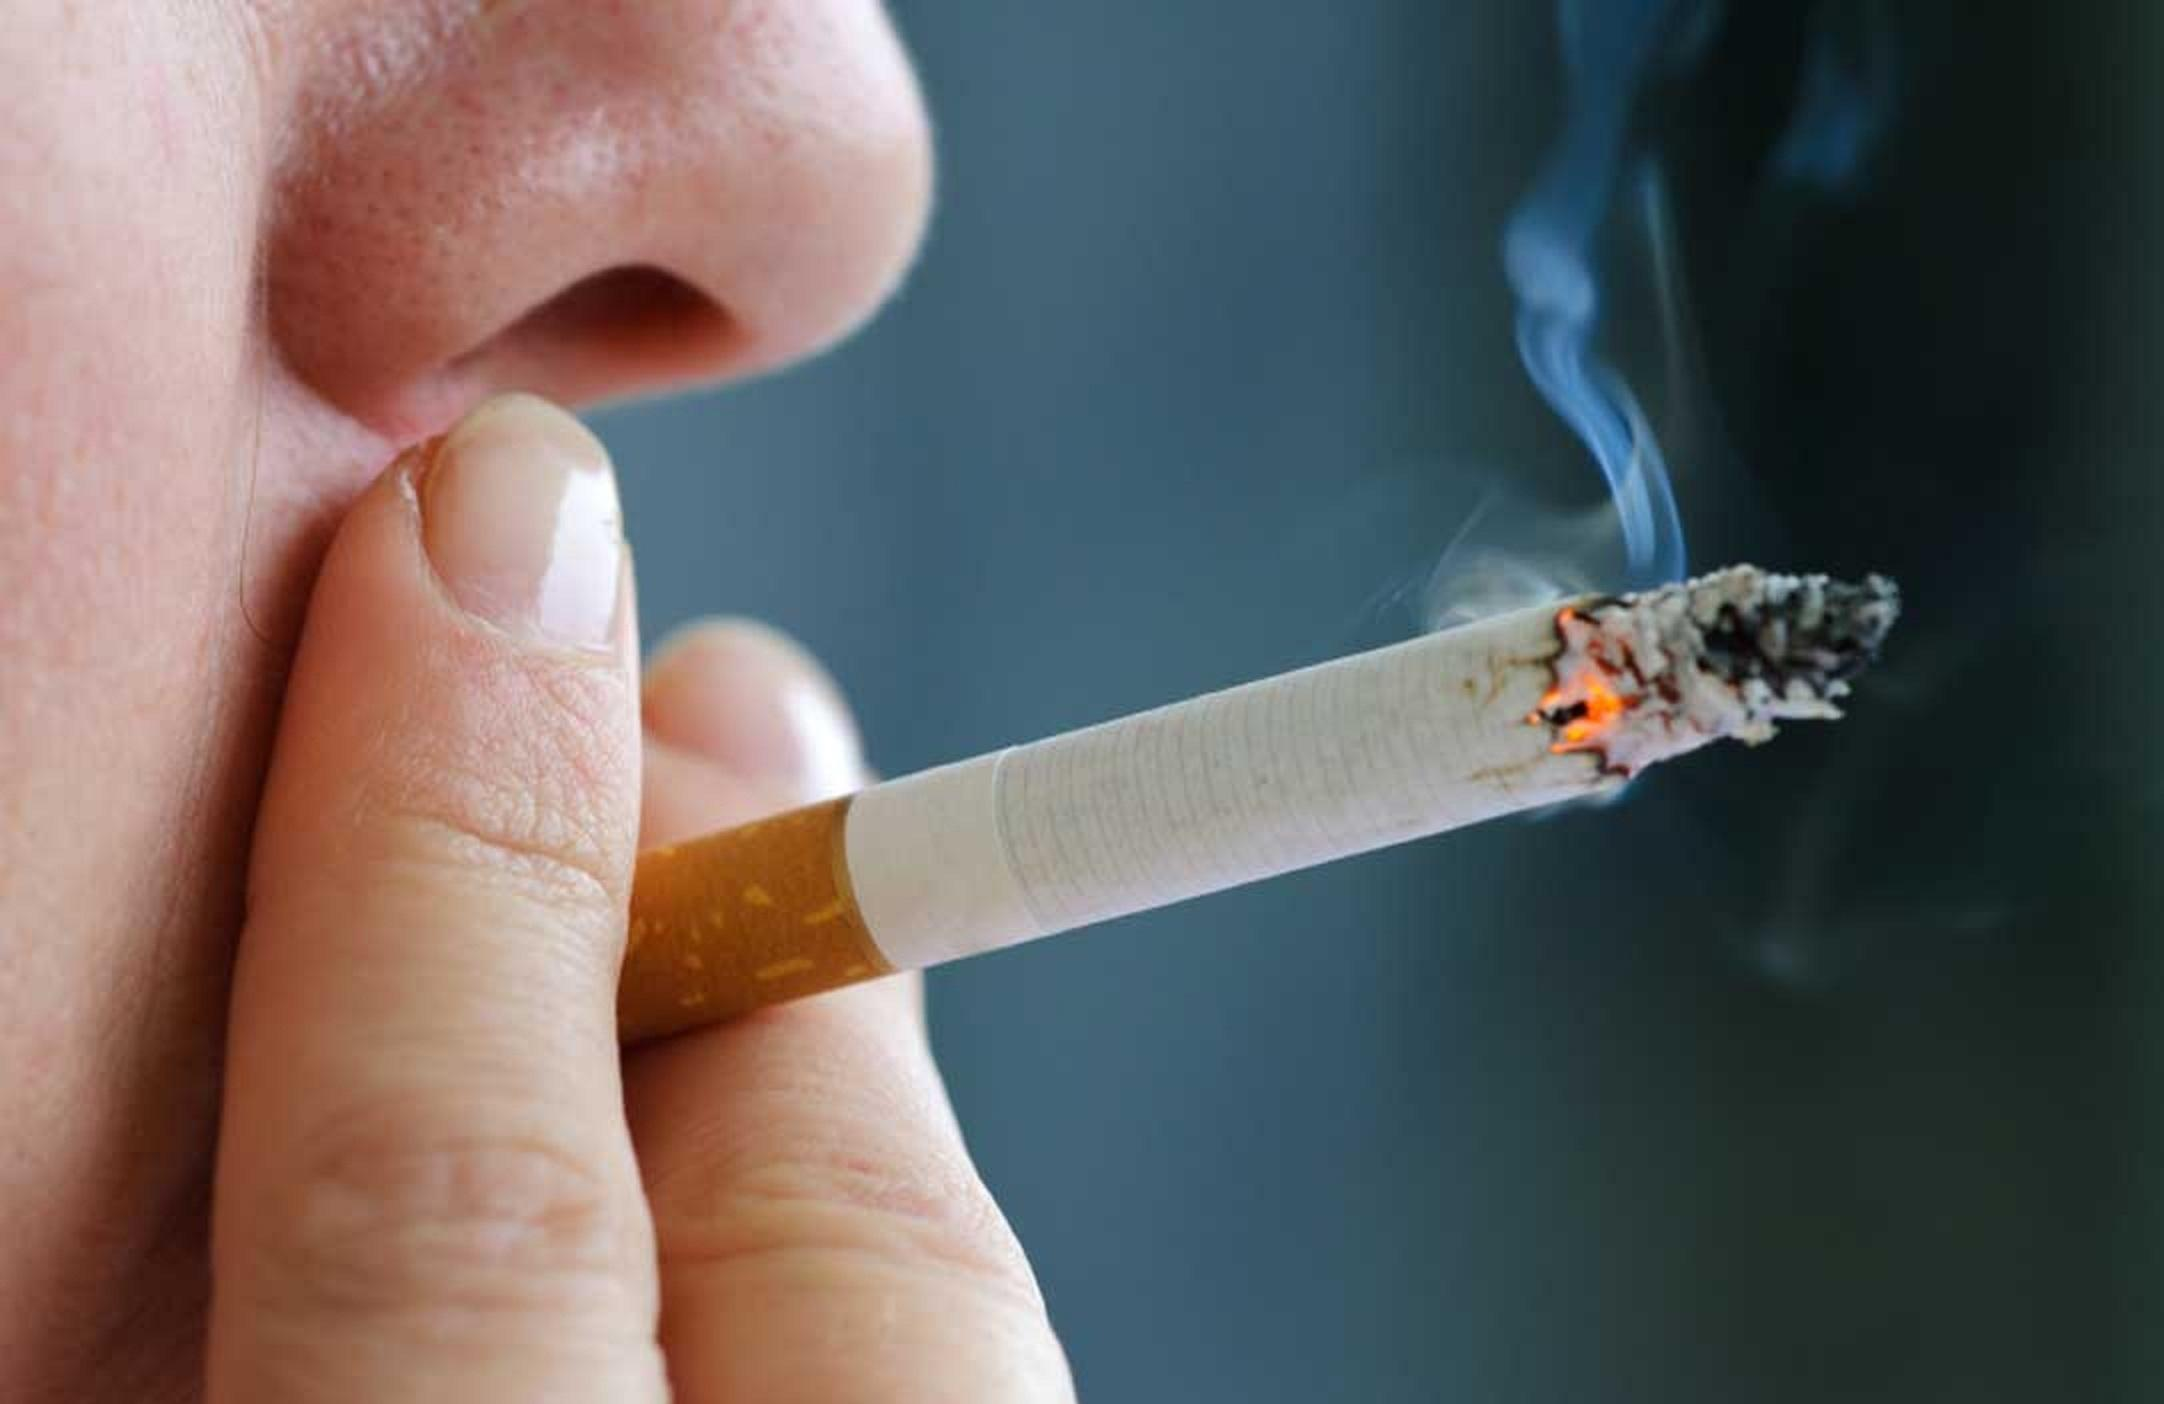cigarette: (617, 571, 1897, 1038)
